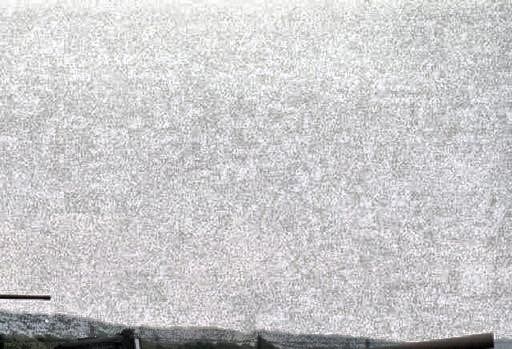tanks: (370, 335, 493, 349), (127, 337, 135, 349)
